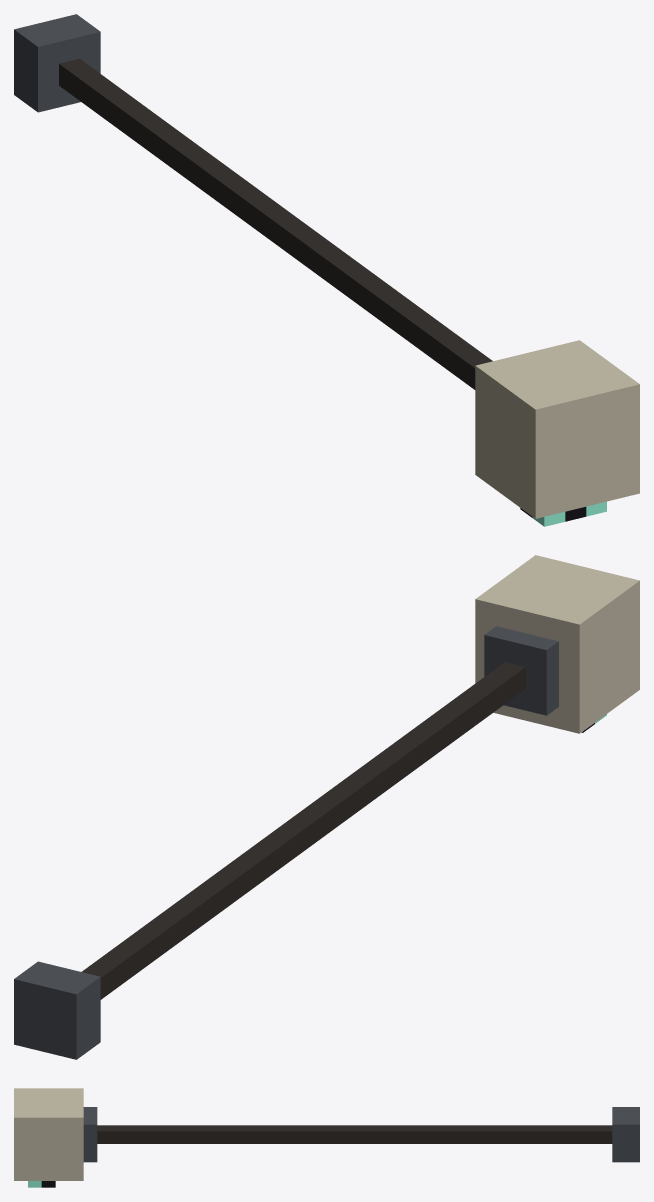
The model's file is vox_staff_skull.glb.
3 renders of one model, top to bottom at view 1: azimuth 30°, elevation 25°; view 2: azimuth 150°, elevation 25°; view 3: azimuth 270°, elevation 25°, orthographic. The views are drawn at different scales.
Parts seen in each view (by area): view 1: vox_staff_skull; view 2: vox_staff_skull; view 3: vox_staff_skull.
Boxes of the visible parts, x1,y1,x2,y2 form: vox_staff_skull: [14, 14, 639, 526]; vox_staff_skull: [14, 555, 639, 1059]; vox_staff_skull: [14, 1088, 639, 1187].
Bounding box in the file's own units: 0.1 × 0.12 × 0.9.
